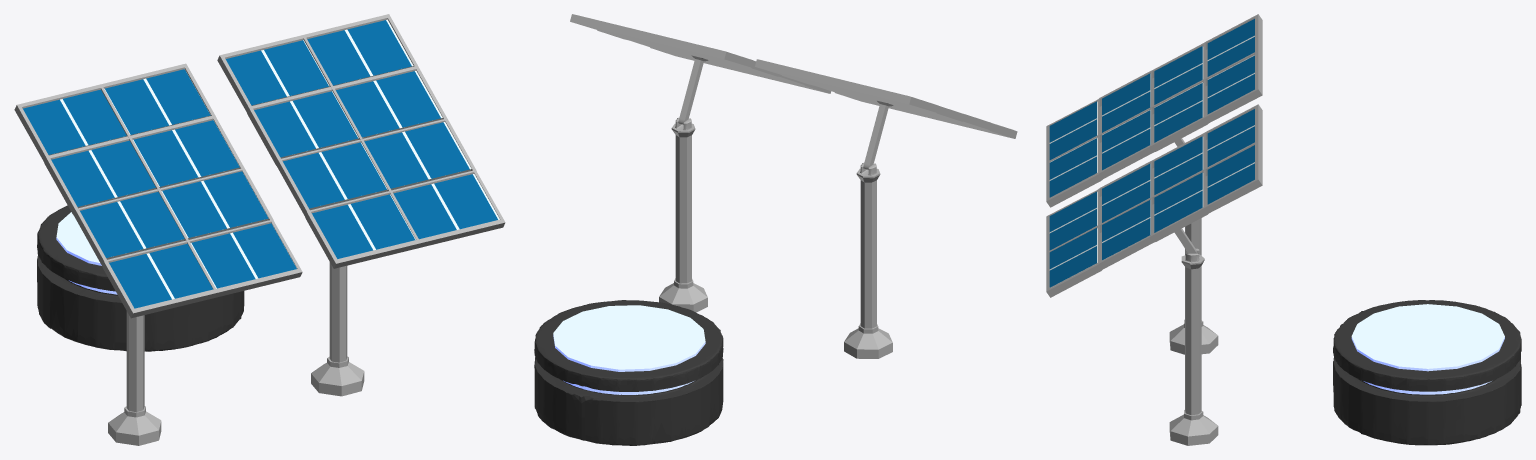
File: compressed_Decors_3.glb
3 views of the same model, side by side, from view 1: azimuth 30°, elevation 25°; view 2: azimuth 150°, elevation 25°; view 3: azimuth 270°, elevation 25° (orthographic). The views are drawn at different scales.
Parts seen in each view (by area): view 1: SolarScreen1, SolarScreen2, Hologrambase, SolarPanel2, SolarPanel, Cylinder.009, Cylinder.008, HologramLight; view 2: Hologrambase, HologramLight, Cylinder.008, Cylinder.009, SolarPanel, SolarPanel2, Cube.025, Cube.030; view 3: Hologrambase, SolarScreen2, SolarScreen1, HologramLight, SolarPanel2, SolarPanel, Cylinder.009, Cylinder.008.
Part boxes in pixels (x1=…): SolarScreen1: x1=23, y1=69, x2=296, y2=308; SolarScreen2: x1=225, y1=19, x2=499, y2=258; Hologrambase: x1=37, y1=205, x2=244, y2=351; SolarPanel2: x1=217, y1=14, x2=505, y2=268; SolarPanel: x1=14, y1=63, x2=302, y2=318; Cylinder.009: x1=311, y1=262, x2=364, y2=396; Cylinder.008: x1=108, y1=311, x2=161, y2=445; HologramLight: x1=56, y1=212, x2=117, y2=294; Hologrambase: x1=534, y1=300, x2=723, y2=445; HologramLight: x1=553, y1=305, x2=705, y2=394; Cylinder.008: x1=844, y1=163, x2=892, y2=358; Cylinder.009: x1=659, y1=117, x2=707, y2=312; SolarPanel: x1=755, y1=59, x2=1017, y2=138; SolarPanel2: x1=570, y1=14, x2=830, y2=93; Cube.025: x1=863, y1=100, x2=893, y2=169; Cube.030: x1=678, y1=55, x2=708, y2=124; Hologrambase: x1=1333, y1=300, x2=1521, y2=445; SolarScreen2: x1=1049, y1=109, x2=1254, y2=287; SolarScreen1: x1=1049, y1=19, x2=1254, y2=197; HologramLight: x1=1351, y1=304, x2=1504, y2=394; SolarPanel2: x1=1046, y1=104, x2=1262, y2=297; SolarPanel: x1=1046, y1=14, x2=1262, y2=207; Cylinder.009: x1=1169, y1=248, x2=1218, y2=445; Cylinder.008: x1=1169, y1=218, x2=1218, y2=354.
Bounding box in the file's own units: 6.19 × 5.16 × 7.52.
